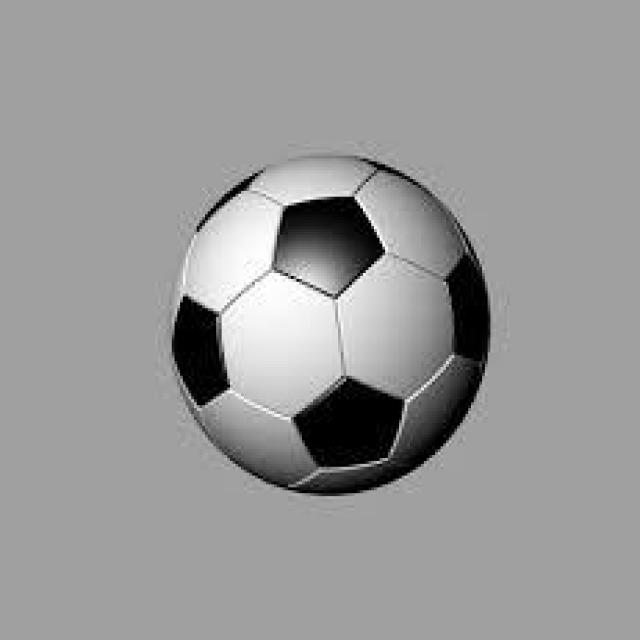Soccer Ball: (172, 156, 493, 496)
